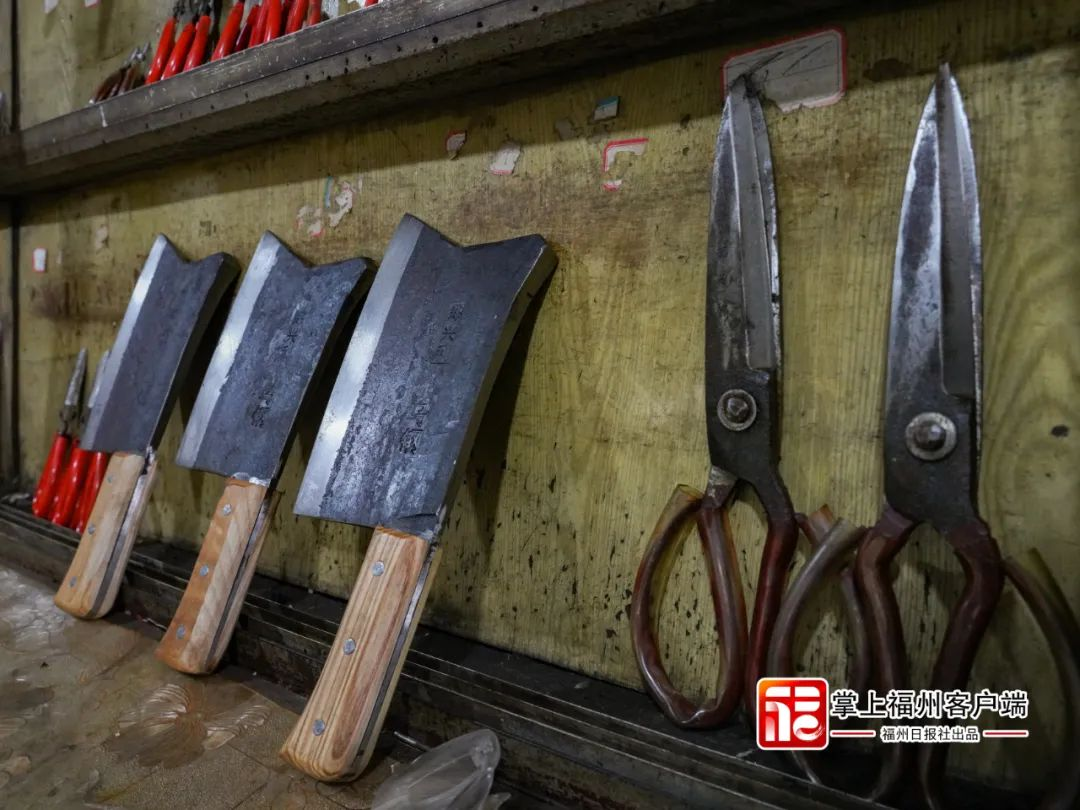knife: (274, 183, 556, 797), (150, 226, 377, 673), (48, 231, 241, 621)
scissors: (750, 51, 1080, 806), (611, 69, 851, 737)
